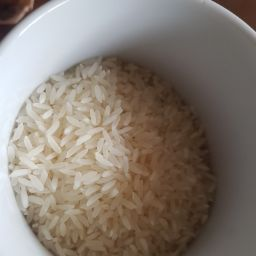Basmati rice: (7, 15, 256, 256)
